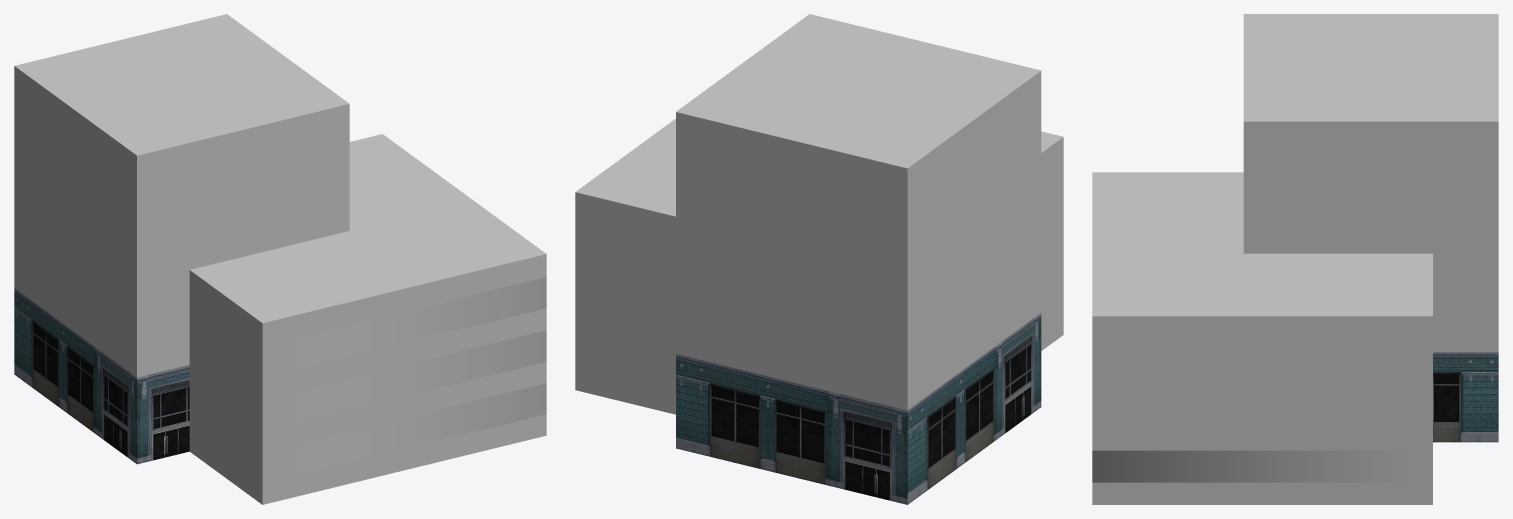
Rendered from NEW building 14.fbx.
The picture shows the model from 3 angles, left to right: view 1: azimuth 30°, elevation 25°; view 2: azimuth 150°, elevation 25°; view 3: azimuth 270°, elevation 25°; orthographic projection. The views are drawn at different scales.
Visible parts, largest first — view 1: Object_6.005; view 2: Object_6.005; view 3: Object_6.005.
Part boxes in pixels (<box>): Object_6.005: <box>14,14,546,504</box>; Object_6.005: <box>575,14,1063,504</box>; Object_6.005: <box>1092,14,1498,504</box>.
Bounding box in the file's own units: 201 × 176 × 202.
